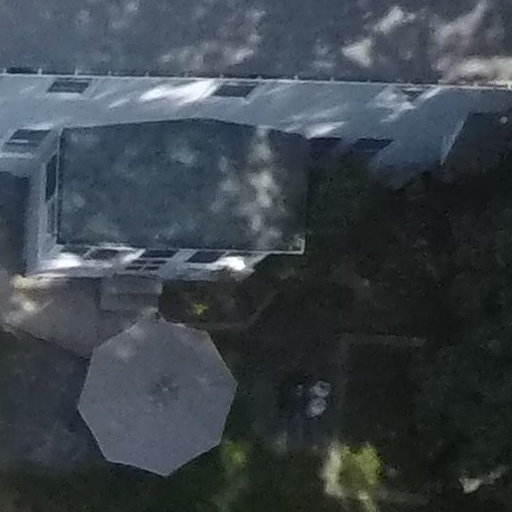umbrella: (72, 306, 248, 477)
